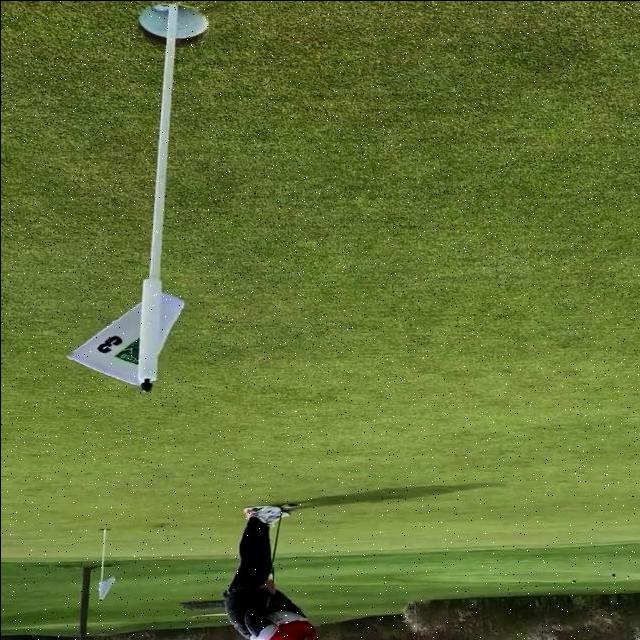golf club-handle: (262, 501, 298, 609)
golf club-head: (280, 503, 297, 508)
